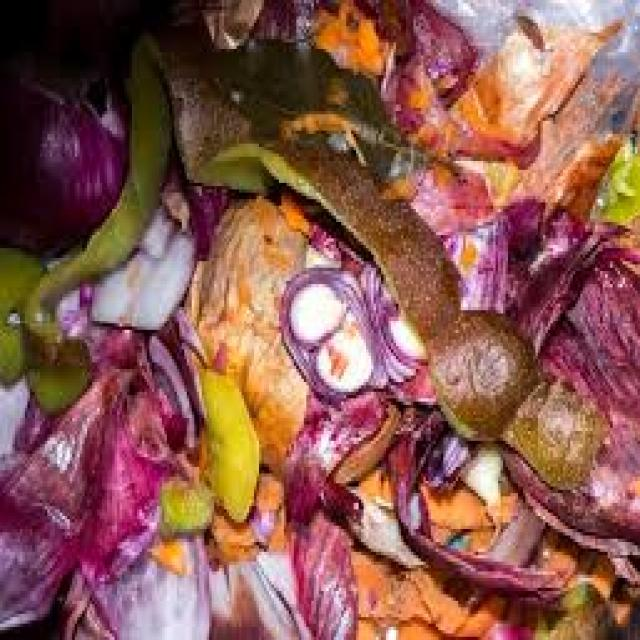food_waste: (36, 30, 601, 625)
